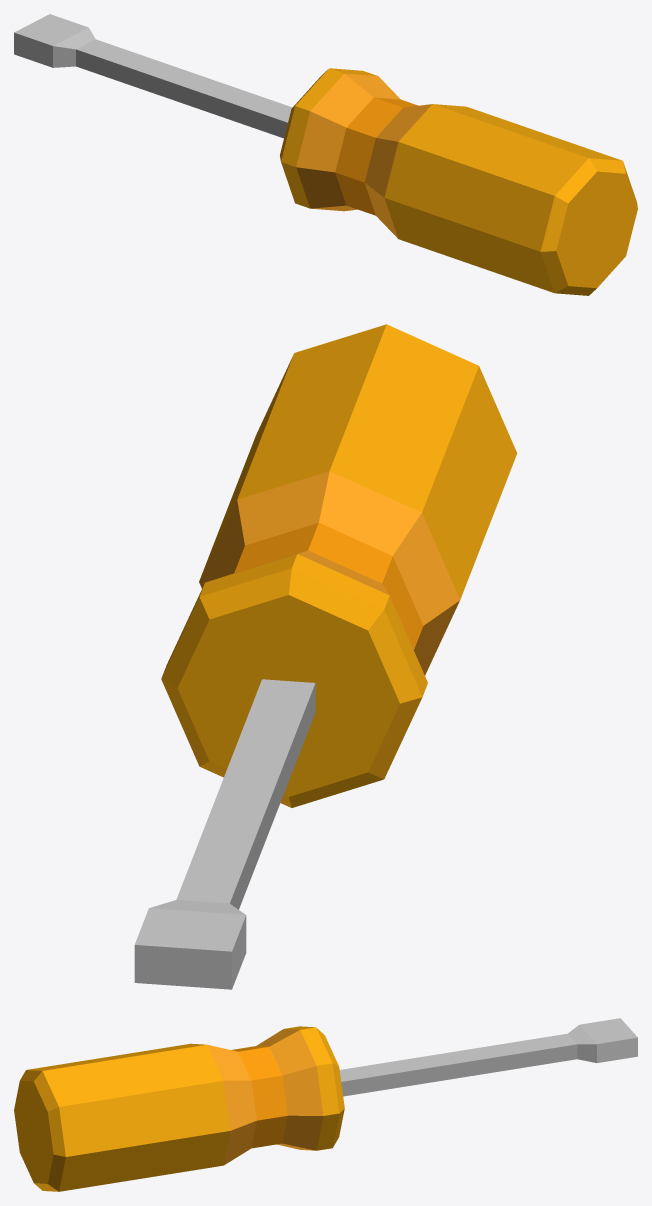
The model's file is screwdriver.glb.
3 views of the same model, one above another, from view 1: azimuth 30°, elevation 25°; view 2: azimuth 150°, elevation 25°; view 3: azimuth 270°, elevation 25° (orthographic). The views are drawn at different scales.
Parts seen in each view (by area): view 1: screwdriver; view 2: screwdriver; view 3: screwdriver.
Boxes of the visible parts, x1=… form: screwdriver: x1=14, y1=14, x2=637, y2=295; screwdriver: x1=134, y1=324, x2=517, y2=989; screwdriver: x1=14, y1=1018, x2=637, y2=1191.
Size of the model in its own units: 0.6807 by 0.2942 by 1.39.
Materials: 1 (1 with a texture image).
